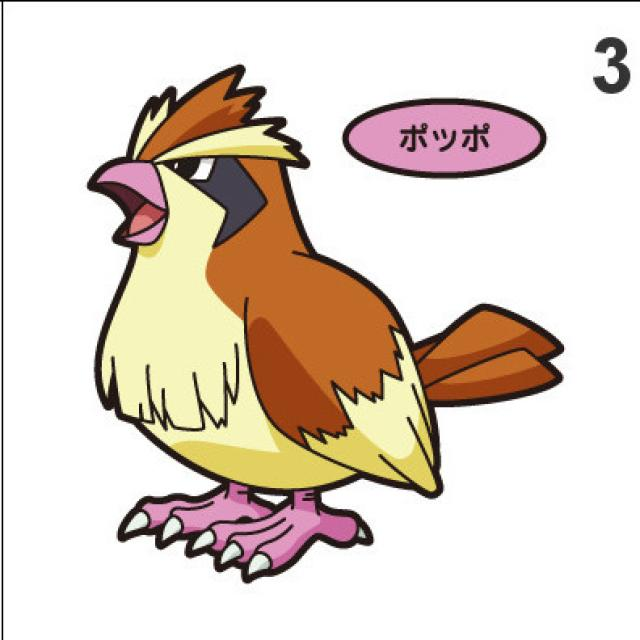Pidgey: (78, 53, 507, 528)
